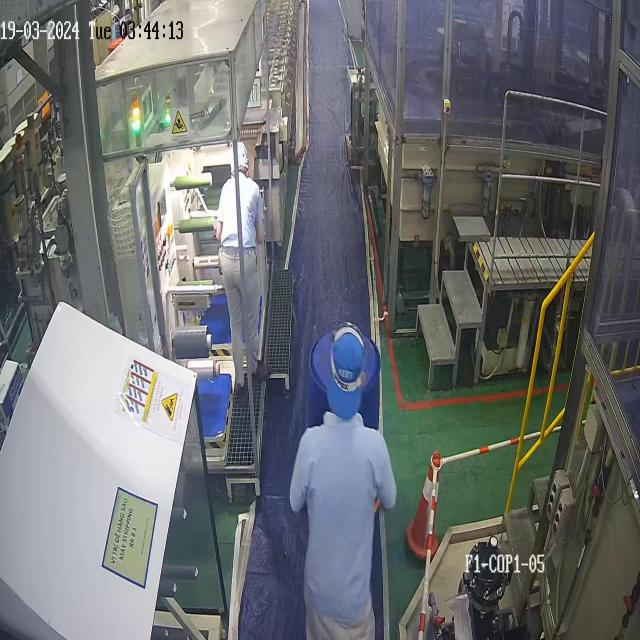Person: (289, 323, 397, 639), (215, 141, 273, 391)
